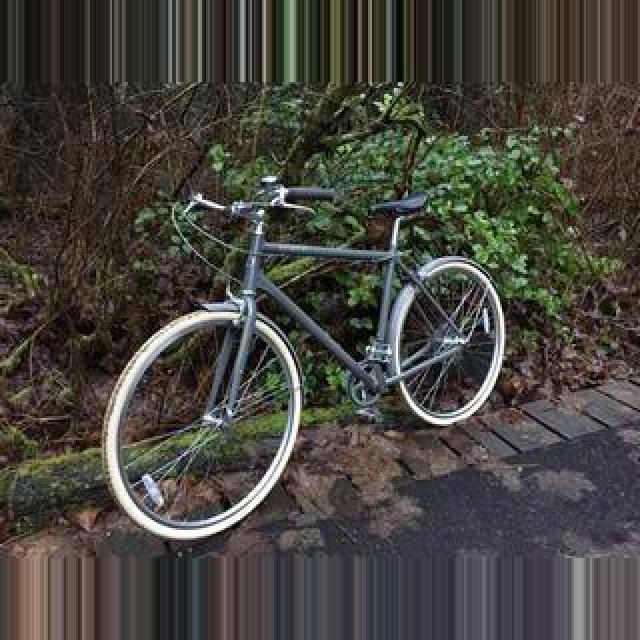Person: (94, 172, 516, 540)
